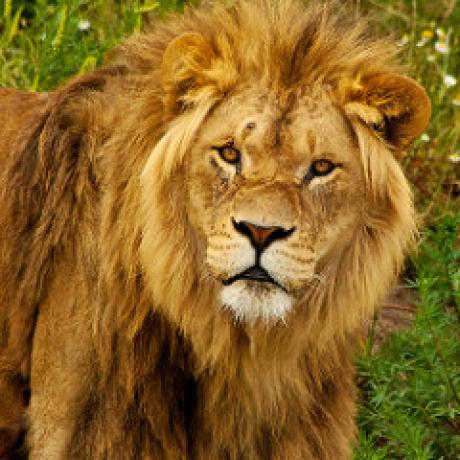Lion: (0, 0, 433, 460)
